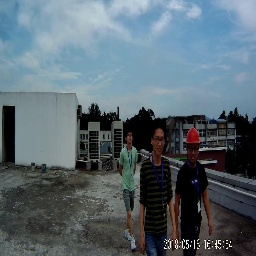helmet: (185, 127, 201, 145)
no-helmet: (150, 116, 168, 143), (125, 126, 134, 140)
no-vest: (144, 161, 171, 234), (181, 166, 205, 232), (122, 149, 136, 190)
person: (142, 122, 170, 255), (180, 127, 206, 238), (120, 126, 139, 244)
